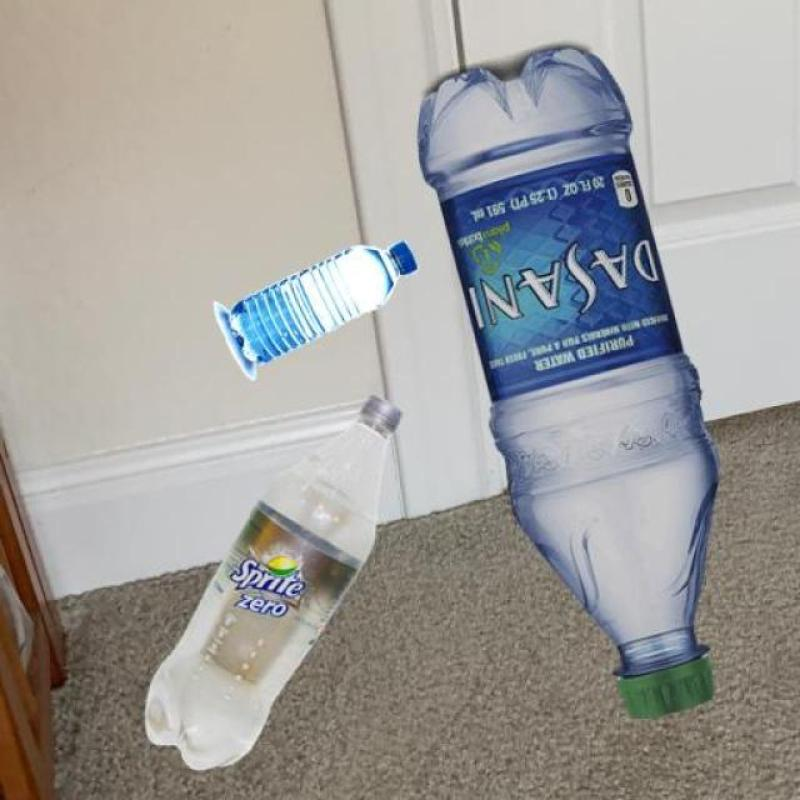botella: (416, 50, 716, 718), (145, 395, 403, 774), (227, 239, 418, 363)
